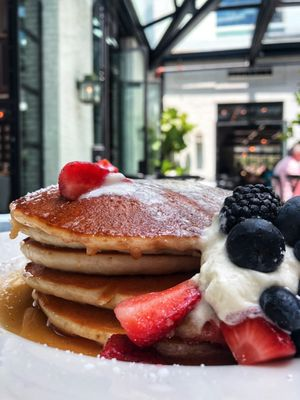soup: (5, 158, 229, 349)
